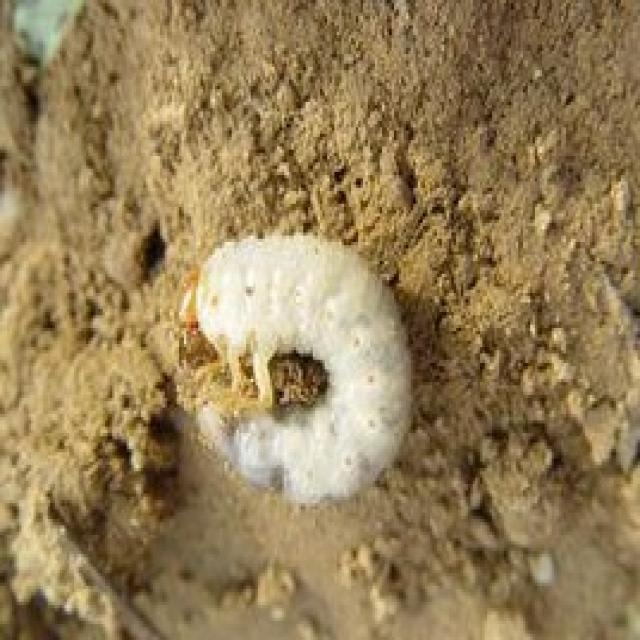grub: (172, 233, 422, 520)
